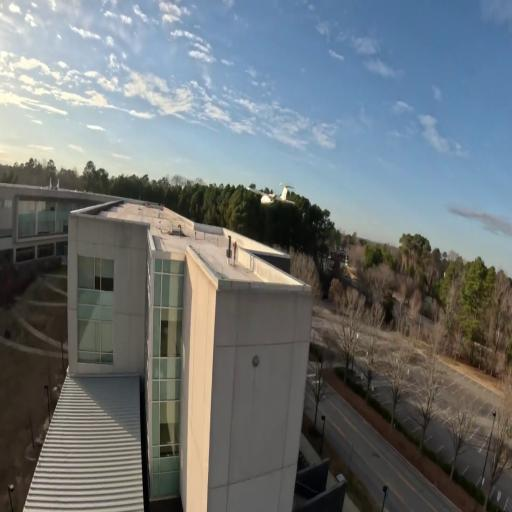uav: (239, 178, 296, 210)
